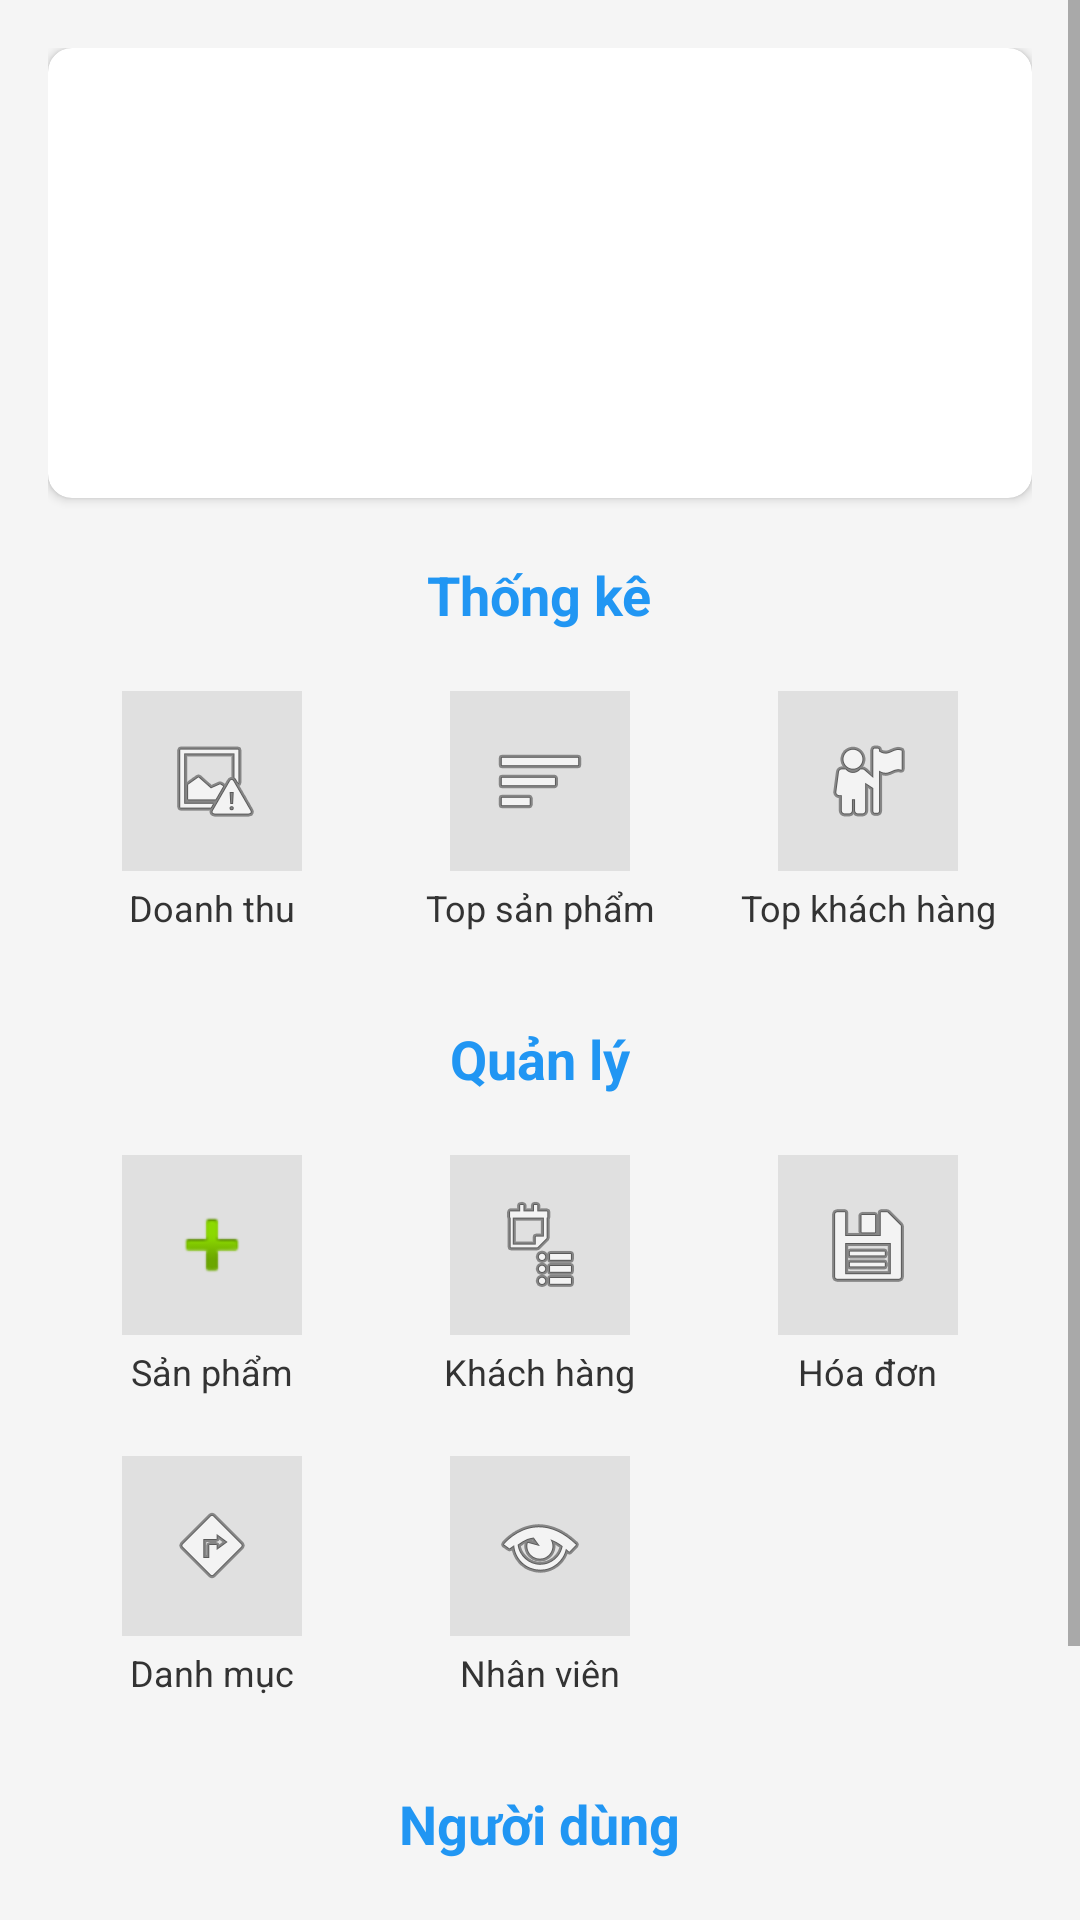

Screen size 1080 × 1920. Icon name, then its box in pixels as (x1, y1, x2, y2):
add: (122, 1155, 302, 1335)
agenda: (450, 1155, 630, 1335)
directions: (122, 1456, 302, 1636)
myplaces: (778, 691, 958, 871)
save: (778, 1155, 958, 1335)
sort by size: (450, 691, 630, 871)
view: (450, 1456, 630, 1636)
